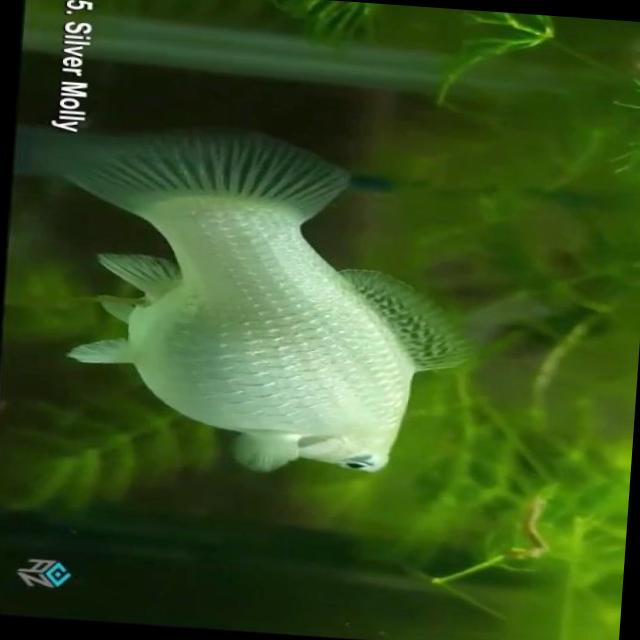PlatyFish: (0, 102, 507, 501)
